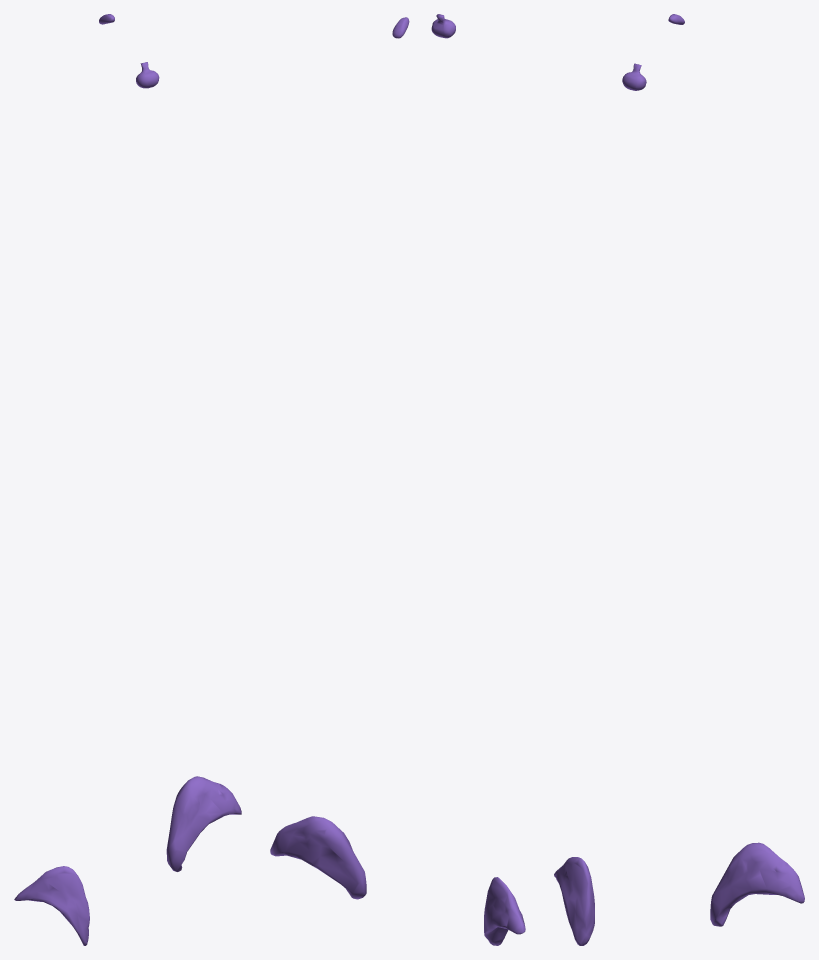
The model's file is endocrine.glb.
The picture shows the model from 3 angles, left to right: view 1: azimuth 30°, elevation 25°; view 2: azimuth 150°, elevation 25°; view 3: azimuth 330°, elevation 25°; orthographic projection. The views are drawn at different scales.
Parts seen in each view (by area): view 1: FJ3129, FJ3130; view 2: FJ3129, FJ3130; view 3: FJ3129, FJ3130.
Part boxes in pixels (<box>): FJ3129: <box>166,776,241,871</box>; FJ3130: <box>14,866,89,945</box>; FJ3129: <box>270,816,366,899</box>; FJ3130: <box>484,877,525,945</box>; FJ3129: <box>710,842,804,926</box>; FJ3130: <box>554,857,594,945</box>.
Size of the model in its own units: 0.1379 by 0.5022 by 0.0513.
